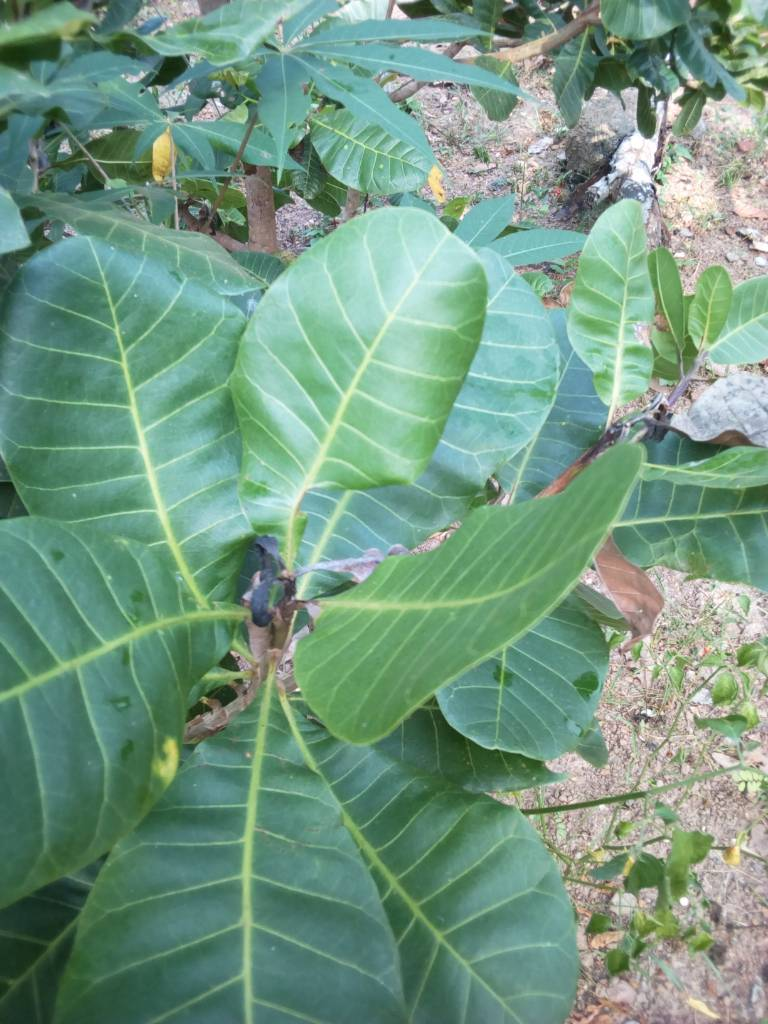Dessèchement des bourgeons: (266, 550, 307, 696)
